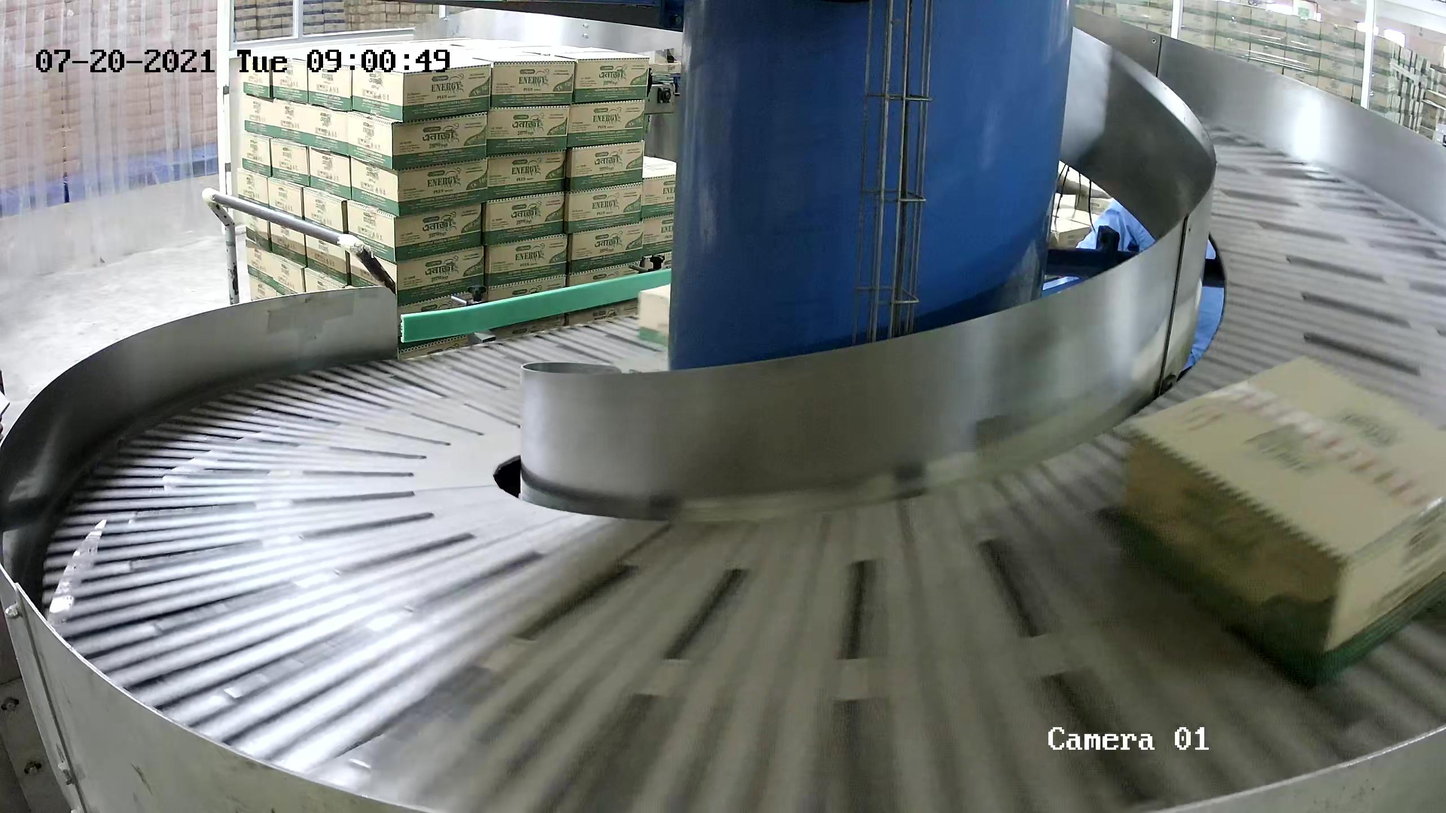Box: (1117, 354, 1446, 692)
